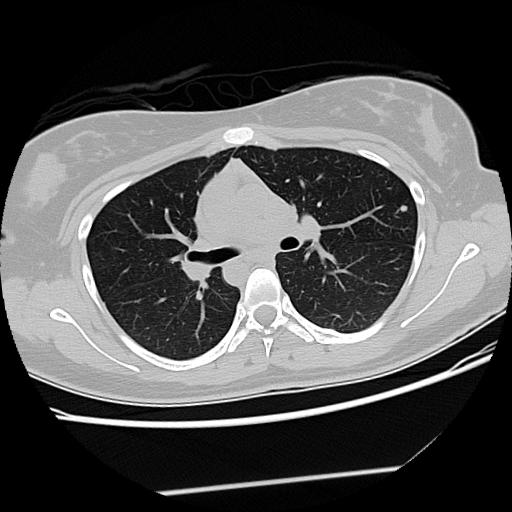nodule: (399, 201, 413, 215)
